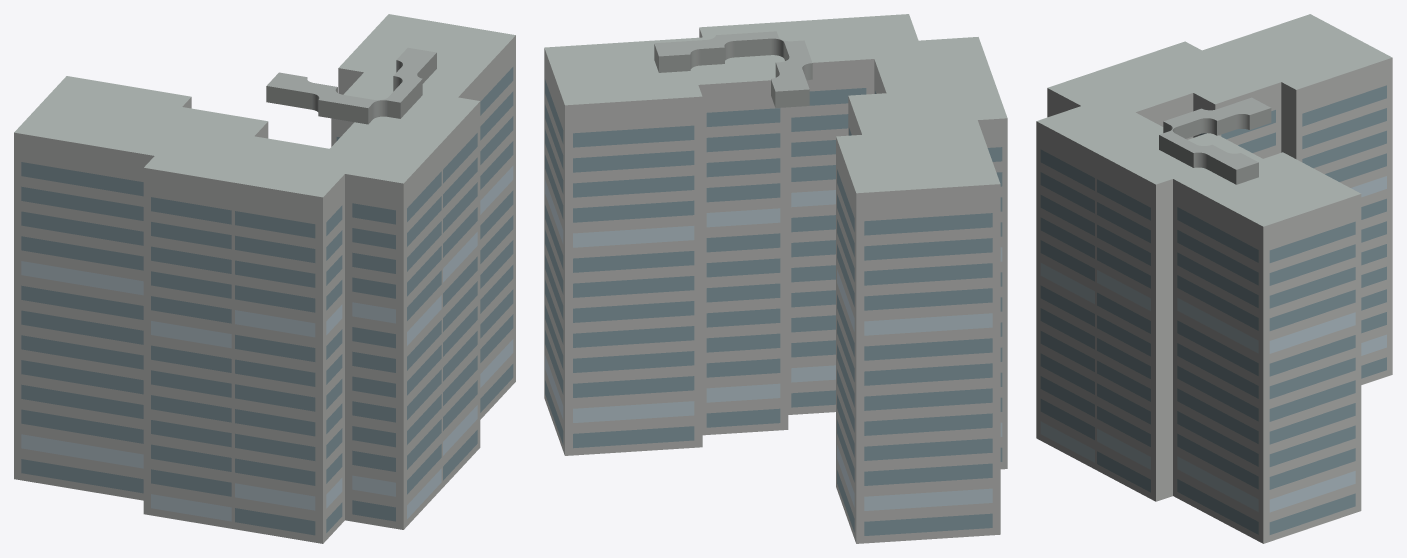
Rendered from fallback-mapo-raemian-prugio-310.glb.
The picture shows the model from 3 angles, left to right: view 1: azimuth 30°, elevation 25°; view 2: azimuth 150°, elevation 25°; view 3: azimuth 270°, elevation 25°; orthographic projection. The views are drawn at different scales.
Visible parts, largest first — view 1: fallback-mapo-raemian-prugio-310; view 2: fallback-mapo-raemian-prugio-310; view 3: fallback-mapo-raemian-prugio-310.
Part boxes in pixels (x1,y1,x2,y2): fallback-mapo-raemian-prugio-310: (14, 14, 515, 543); fallback-mapo-raemian-prugio-310: (544, 14, 1007, 543); fallback-mapo-raemian-prugio-310: (1036, 14, 1392, 543).
Size of the model in its own units: 56.33 by 41 by 39.85.
